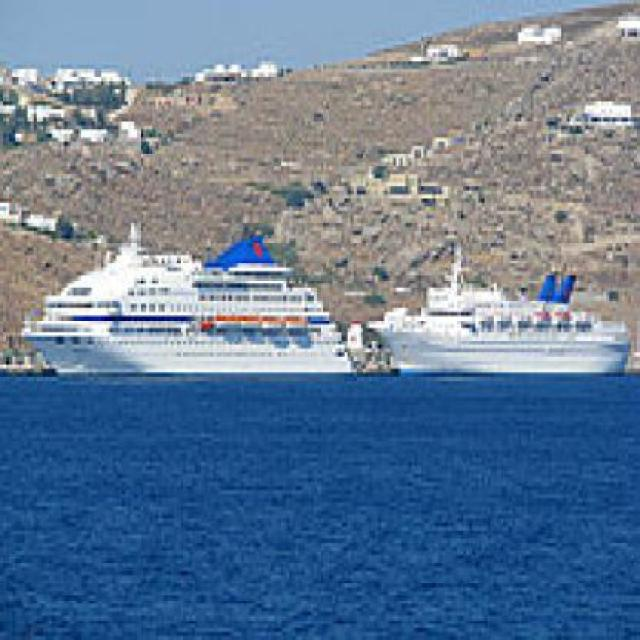cruise: (16, 207, 364, 386), (358, 240, 638, 394)
